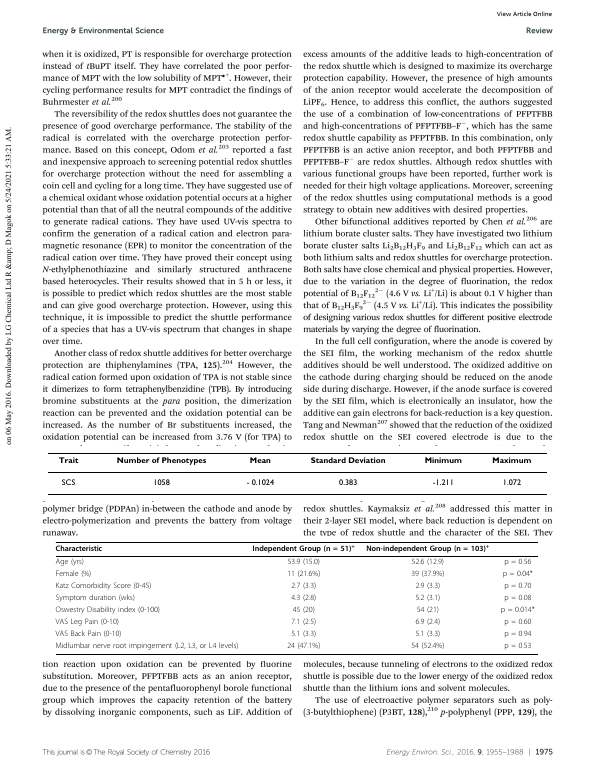borderless: (54, 541, 538, 654), (47, 451, 547, 494)
cell: (55, 642, 239, 651), (365, 543, 490, 554), (252, 543, 356, 554), (55, 606, 161, 616), (55, 582, 152, 592), (115, 456, 207, 465), (55, 594, 136, 604), (309, 456, 386, 465), (55, 630, 122, 639), (55, 618, 120, 627), (55, 545, 103, 554), (55, 570, 92, 580), (491, 456, 532, 465), (500, 606, 536, 616), (423, 456, 462, 465), (286, 558, 321, 568), (286, 570, 321, 580), (410, 570, 445, 580), (411, 558, 445, 568), (502, 570, 534, 580), (286, 642, 321, 651), (410, 642, 445, 651), (55, 558, 85, 568), (503, 558, 532, 568), (503, 582, 532, 592), (503, 594, 532, 604), (290, 582, 317, 592), (414, 582, 441, 592), (290, 594, 317, 604), (414, 594, 441, 604), (503, 618, 532, 627), (503, 630, 532, 639), (503, 642, 532, 651), (290, 618, 317, 627), (414, 618, 441, 627), (290, 630, 317, 639), (414, 630, 441, 639), (245, 478, 275, 486), (292, 606, 316, 616), (416, 606, 440, 616), (248, 456, 271, 465), (57, 456, 79, 465), (431, 478, 454, 486), (501, 478, 522, 486), (338, 478, 358, 486), (152, 478, 170, 486), (60, 478, 76, 486)
